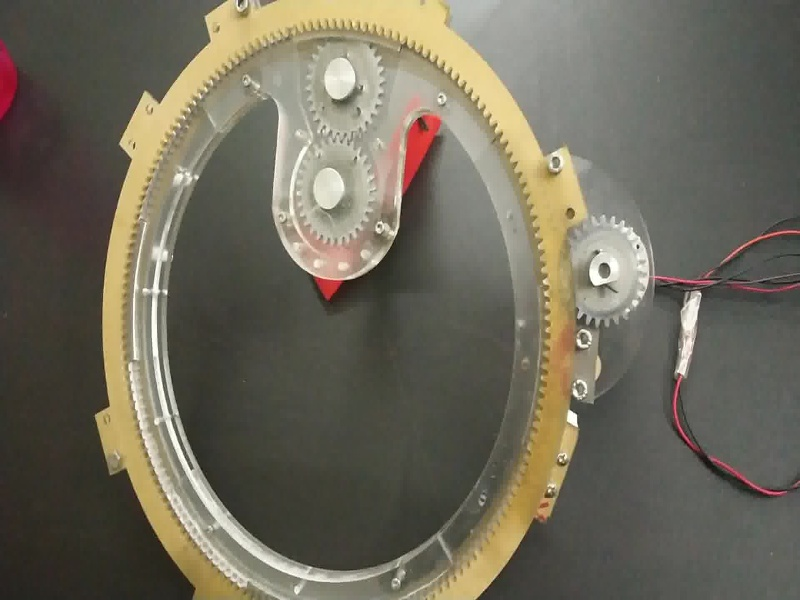stirrer: (267, 43, 408, 285)
